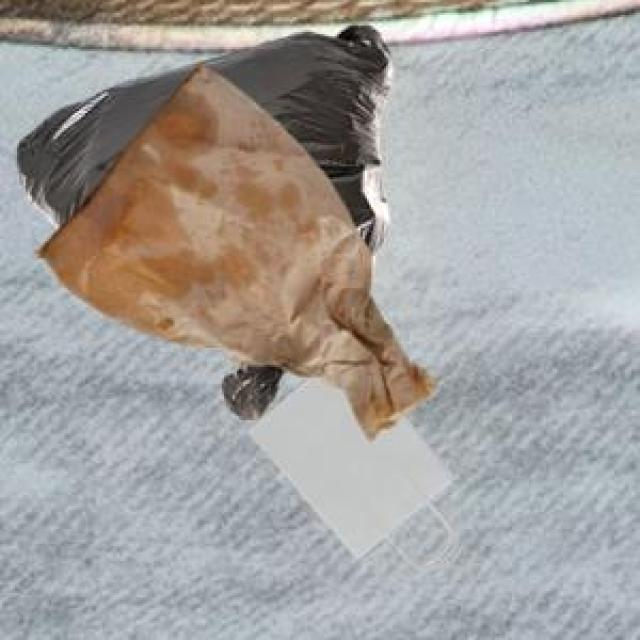miscellaneous trash: (13, 21, 388, 346)
paper: (32, 58, 433, 435), (243, 373, 451, 555)
